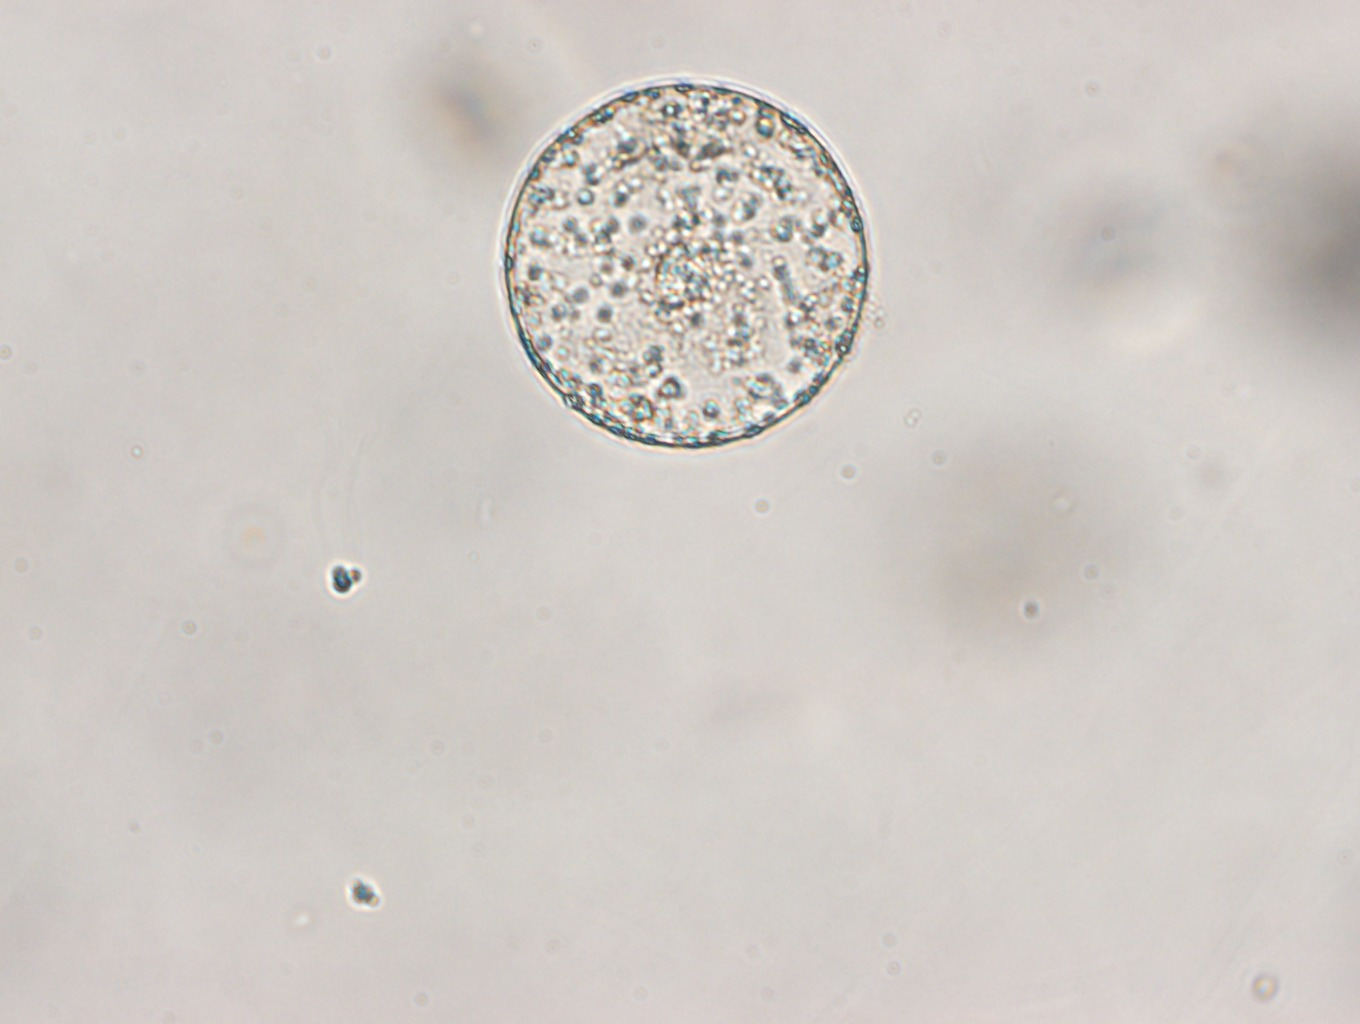coscinodiscus: (495, 76, 874, 455)
